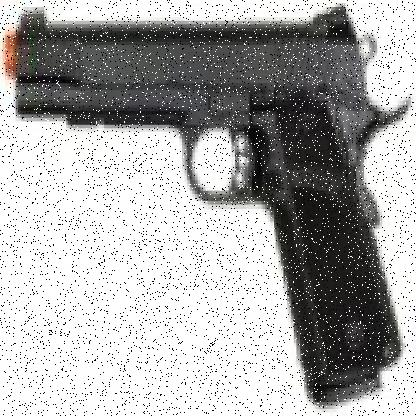pistol: (8, 7, 408, 402)
